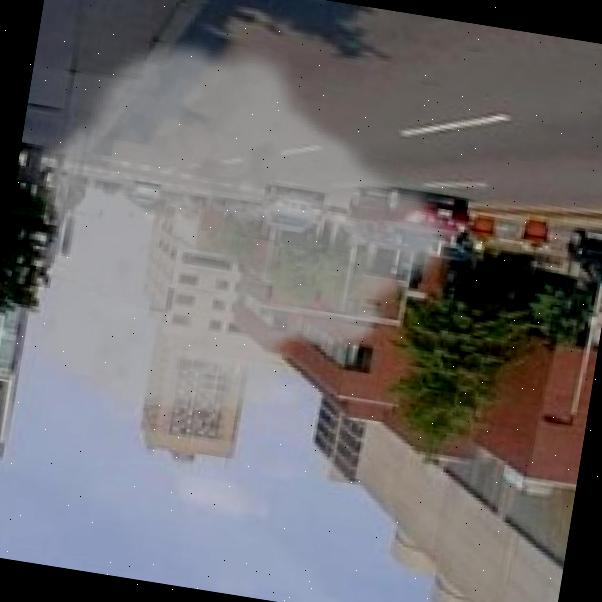smoke: (5, 11, 485, 460)
